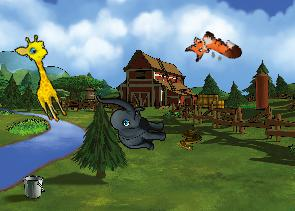elephant: (96, 94, 166, 150)
fox: (182, 23, 244, 78)
giraffe: (11, 31, 78, 125)
